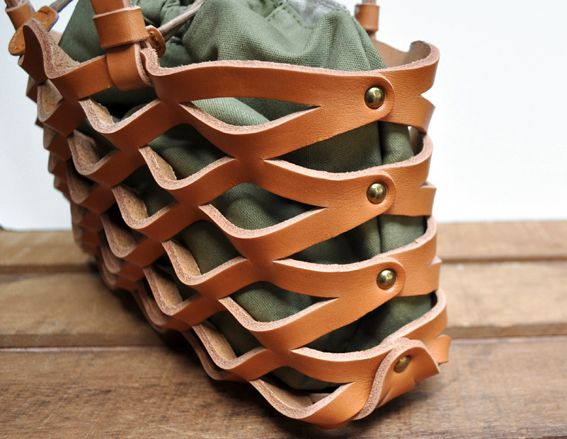cuero: (1, 1, 451, 425)
